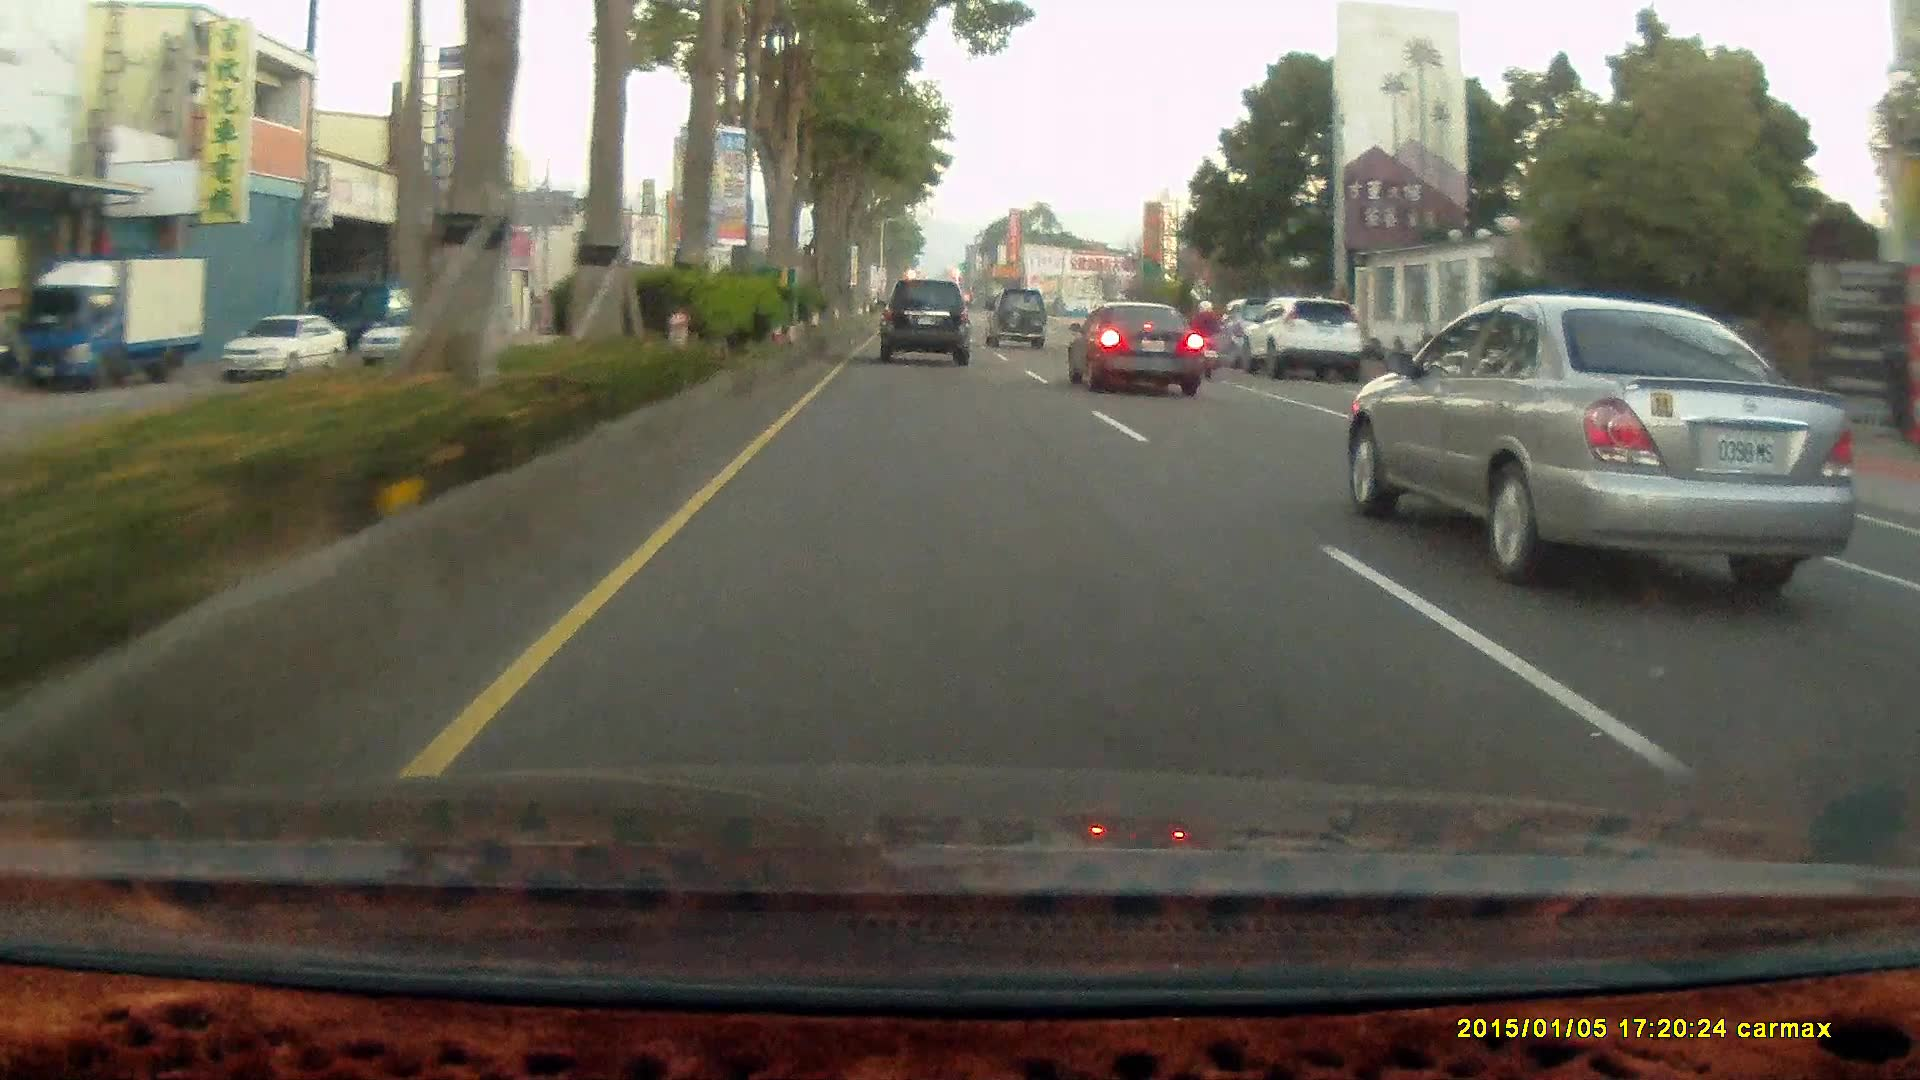rider: (1184, 297, 1221, 376)
vehicle: (1346, 297, 1859, 585), (12, 253, 208, 393), (10, 255, 209, 393), (1068, 303, 1211, 399), (1063, 300, 1204, 395), (1238, 297, 1364, 384), (1251, 300, 1367, 384), (875, 278, 976, 369), (221, 315, 348, 385), (221, 311, 347, 380), (876, 277, 969, 364), (358, 302, 467, 364), (1208, 296, 1288, 366), (985, 292, 1051, 356), (985, 290, 1047, 350)
